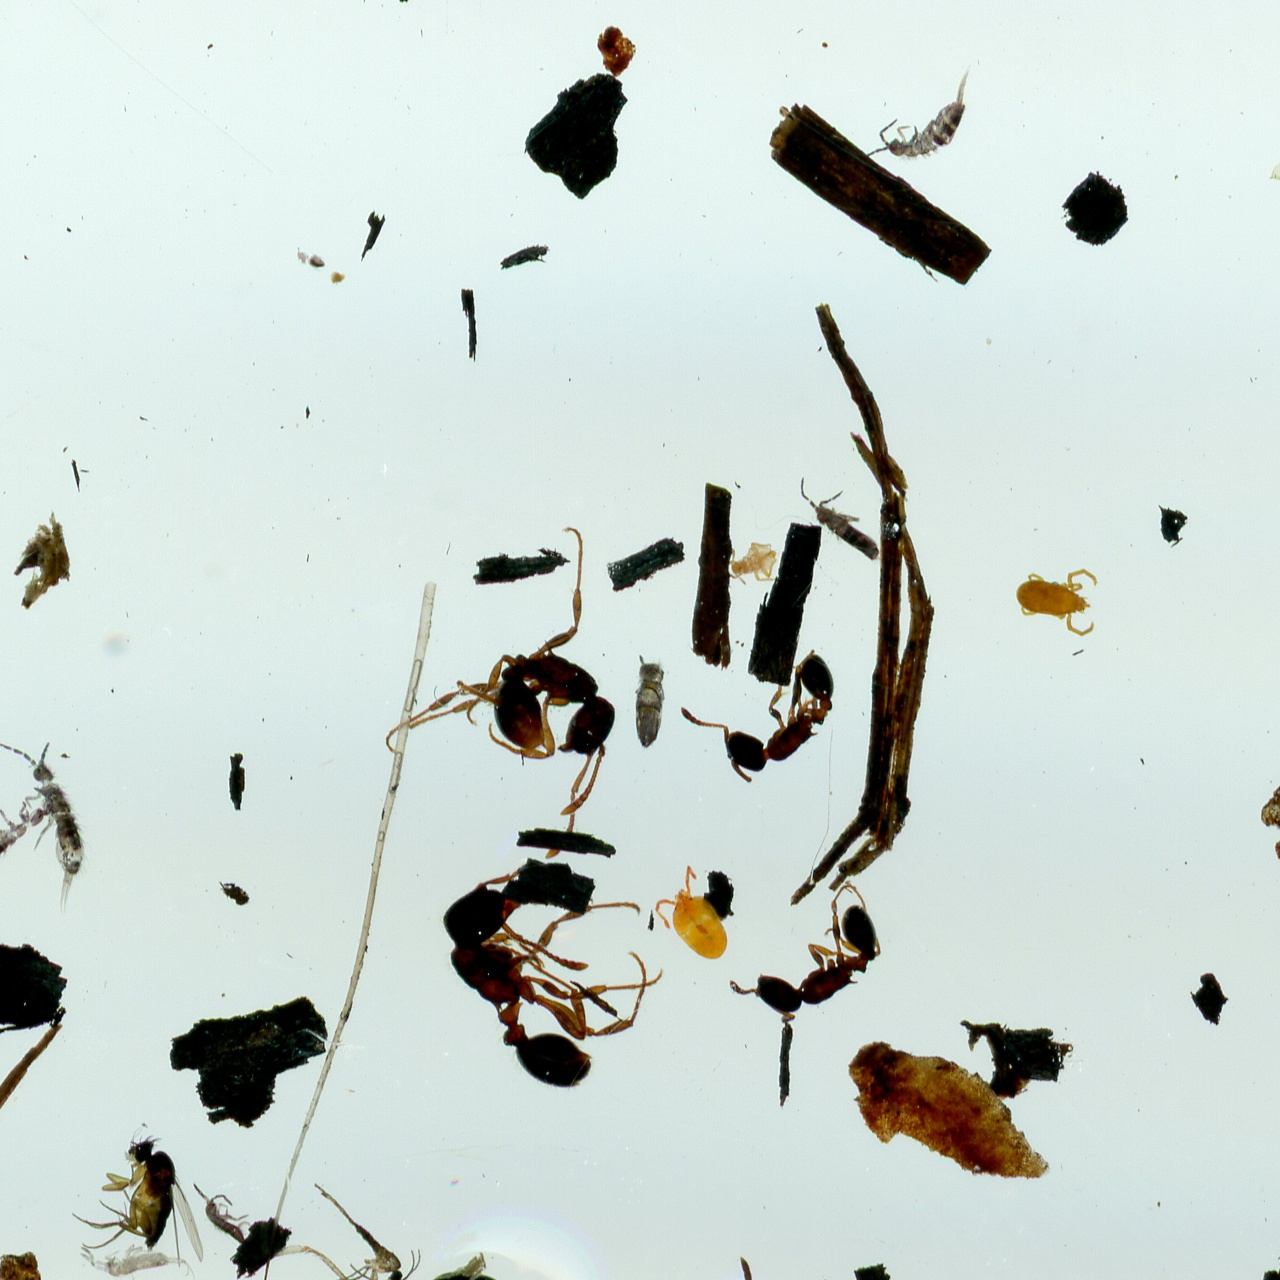arthropod: (384, 525, 617, 835), (437, 865, 668, 1092), (669, 604, 865, 799), (722, 872, 910, 1051), (68, 1118, 206, 1271), (0, 723, 104, 918), (847, 59, 990, 173), (784, 458, 900, 580), (641, 858, 753, 976), (311, 1178, 422, 1280), (181, 1164, 267, 1257), (0, 779, 64, 904), (1012, 566, 1099, 641), (79, 1239, 200, 1280), (632, 652, 668, 751), (727, 539, 781, 586)
